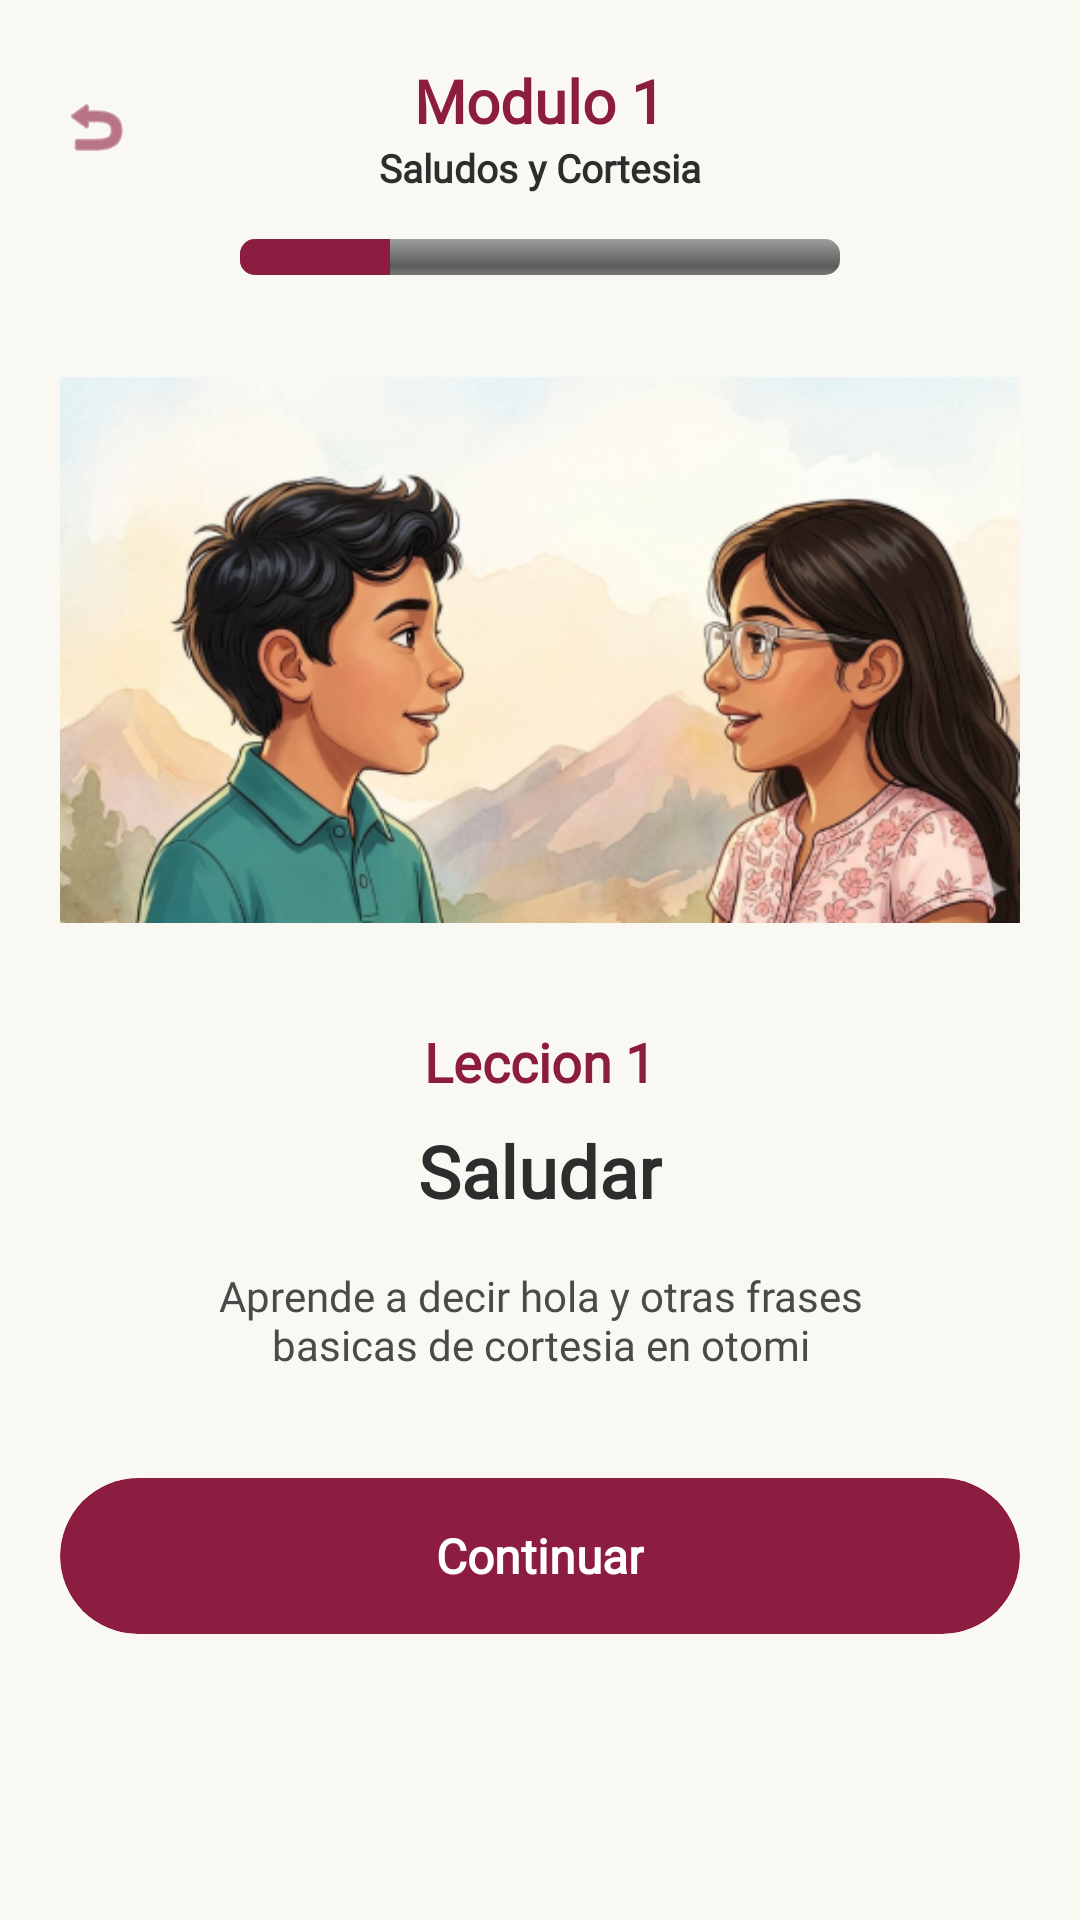

Where icons sit on this 1080w x 1920h app screen, as Rect(x1, y1, x2, y2):
Volver: Rect(71, 104, 123, 151)
